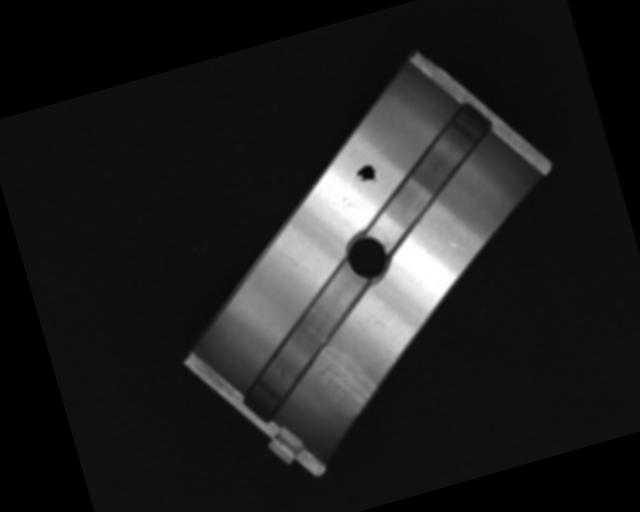blot: (350, 161, 380, 191)
gap: (218, 255, 396, 421), (343, 98, 515, 250)
hole: (343, 230, 393, 284)
nick: (418, 209, 465, 261), (278, 243, 309, 280)
scratch: (309, 336, 381, 420)
